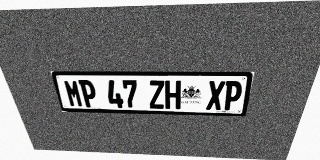4: (105, 80, 124, 108)
7: (121, 80, 139, 108)
H: (165, 80, 181, 109)
M: (63, 80, 84, 107)
P: (222, 81, 244, 110), (78, 80, 98, 107)
X: (206, 81, 226, 110)
Z: (148, 80, 165, 109)
